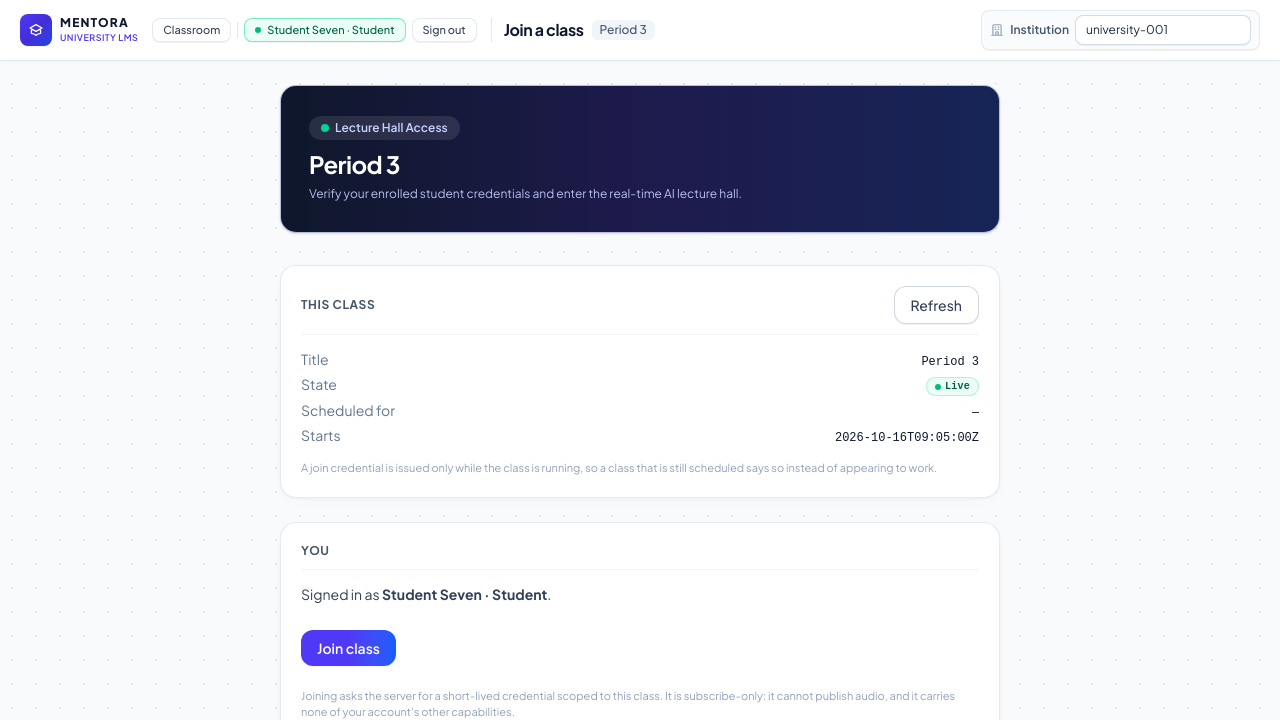
Test: JoinClassPage › reports a refusal with its precise reason
This screenshot has width=1280, height=720.
Step 1. Click the button "Join class" → (348, 648), box [301,630,396,666]
(page scrolled)
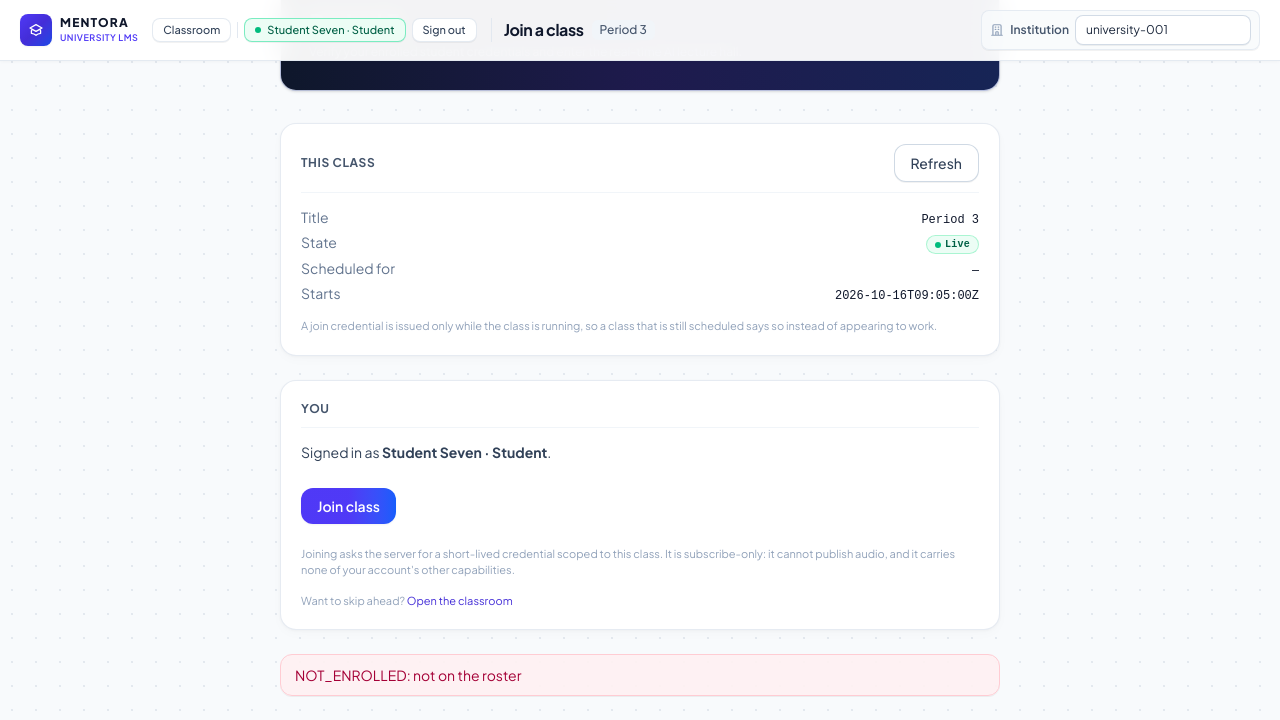
expect the text "NOT_ENROLLED: not on the roster" is shown: met, box [295,666,522,684]
